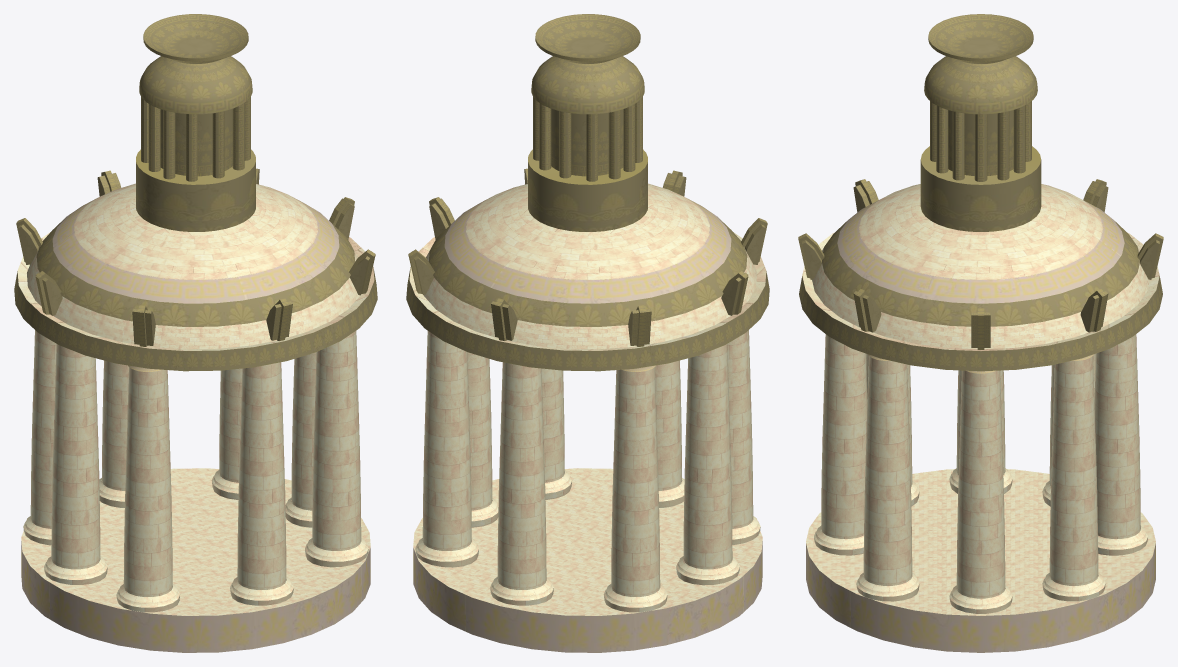
The model's file is SM_brasero.glb.
3 views of the same model, side by side, from view 1: azimuth 30°, elevation 25°; view 2: azimuth 150°, elevation 25°; view 3: azimuth 270°, elevation 25° (orthographic).
Parts seen in each view (by area): view 1: SM_brasero; view 2: SM_brasero; view 3: SM_brasero.
Boxes of the visible parts, bbox=[...] form: SM_brasero: bbox=[14, 14, 377, 652]; SM_brasero: bbox=[406, 14, 769, 652]; SM_brasero: bbox=[798, 14, 1163, 652].
Bounding box in the file's own units: 45.67 × 75.01 × 45.62.
3 materials, 3 textured.
